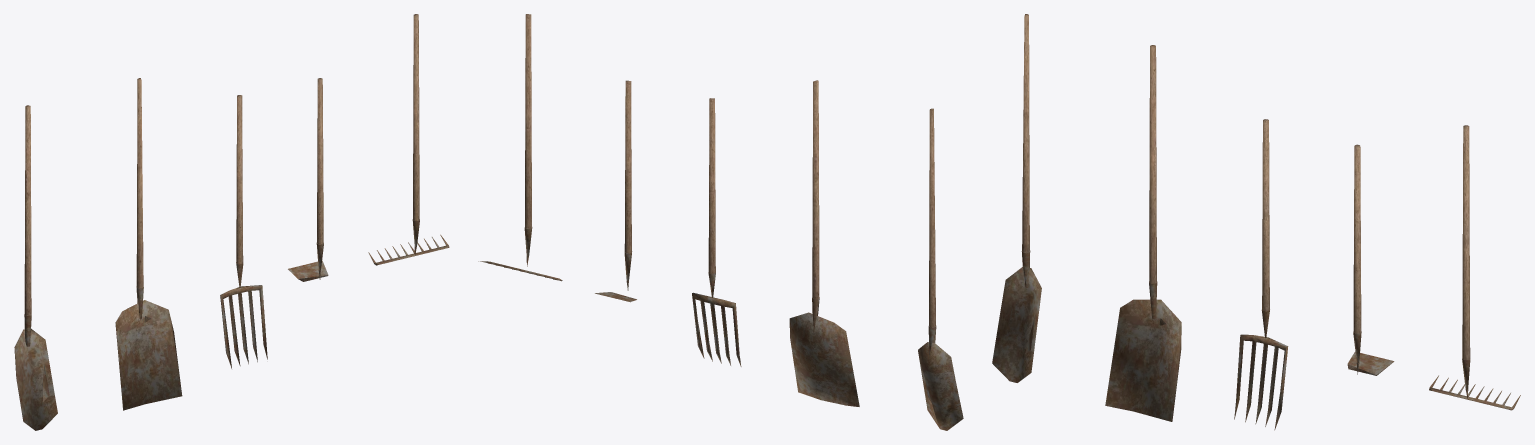
File: farm-tools.lod0.glb
The picture shows the model from 3 angles, left to right: view 1: azimuth 30°, elevation 25°; view 2: azimuth 150°, elevation 25°; view 3: azimuth 330°, elevation 25°; orthographic projection. The views are drawn at different scales.
Visible parts, largest first — view 1: Object_4; view 2: Object_4; view 3: Object_4.
Part boxes in pixels (left/top/right/bottom): Object_4: left=14, top=14, right=449, bottom=430; Object_4: left=478, top=14, right=963, bottom=430; Object_4: left=992, top=14, right=1520, bottom=430.
Bounding box in the file's own units: 2.35 × 1.6 × 0.2579.
1 material, 1 textured.
